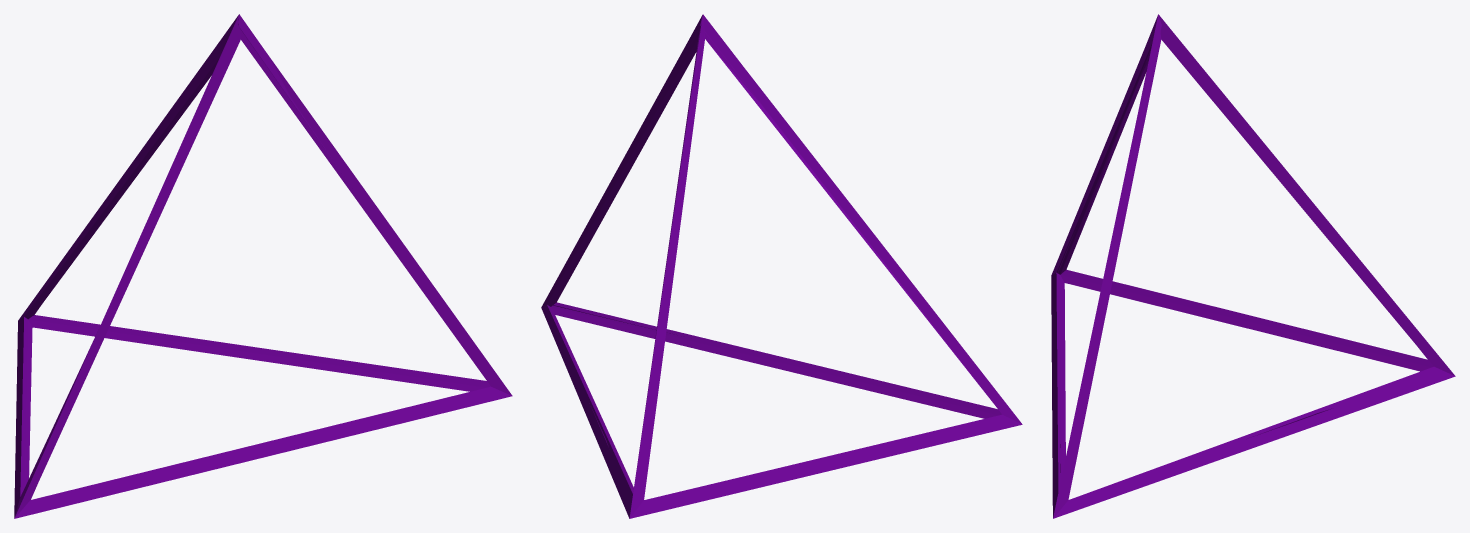
The picture shows the model from 3 angles, left to right: view 1: azimuth 30°, elevation 25°; view 2: azimuth 150°, elevation 25°; view 3: azimuth 270°, elevation 25°; orthographic projection. The views are drawn at different scales.
Visible parts, largest first — view 1: Circle.001; view 2: Circle.001; view 3: Circle.001.
Boxes of the visible parts, left/top/right/bottom form: Circle.001: left=14, top=14, right=512, bottom=518; Circle.001: left=541, top=14, right=1022, bottom=518; Circle.001: left=1051, top=14, right=1455, bottom=518.
Size of the model in its own units: 4.39 by 3.34 by 3.08.
